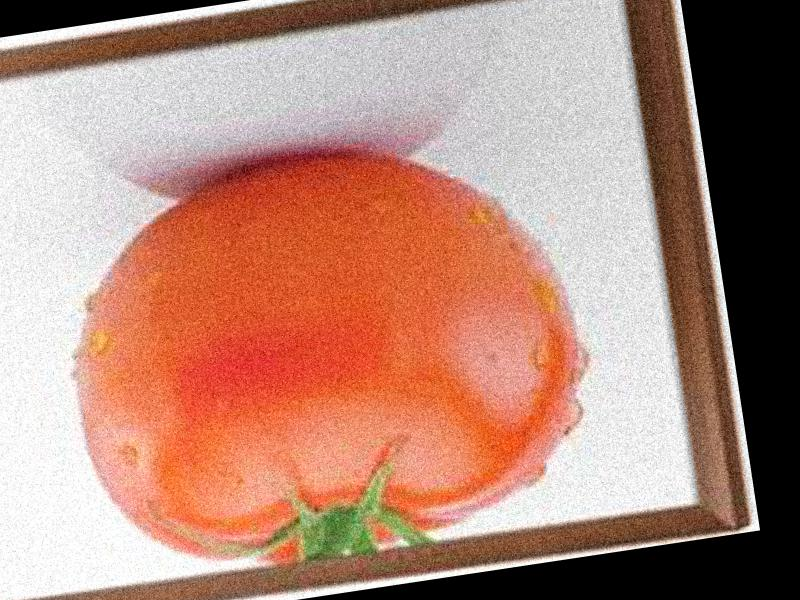Tomato: (48, 120, 605, 593)
